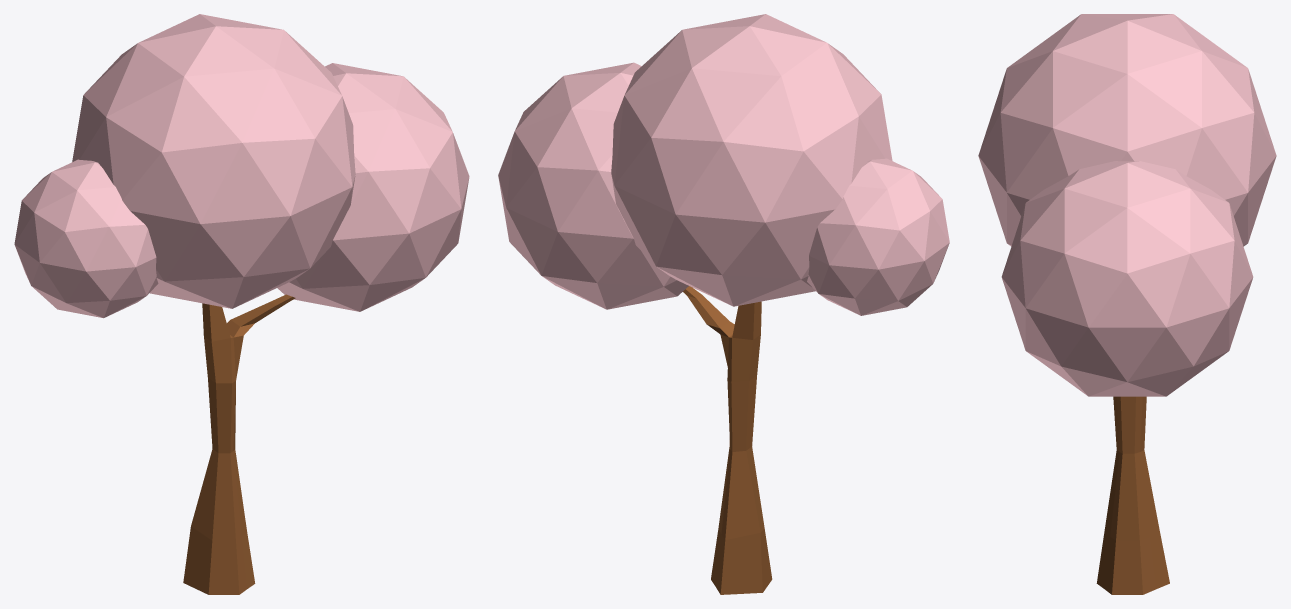
The model's file is SnowTree.fbx.
3 views of the same model, side by side, from view 1: azimuth 30°, elevation 25°; view 2: azimuth 150°, elevation 25°; view 3: azimuth 270°, elevation 25° (orthographic).
Parts seen in each view (by area): view 1: Icosphere.002, Pillar; view 2: Icosphere.002, Pillar; view 3: Icosphere.002, Pillar.
Boxes of the visible parts, box(x1,y1,x2,y2) form: Icosphere.002: box(14, 14, 469, 318); Pillar: box(183, 294, 295, 594); Icosphere.002: box(498, 14, 949, 315); Pillar: box(683, 286, 772, 594); Icosphere.002: box(978, 14, 1276, 396); Pillar: box(1096, 396, 1169, 594).
Bounding box in the file's own units: 886 × 1120 × 541.
